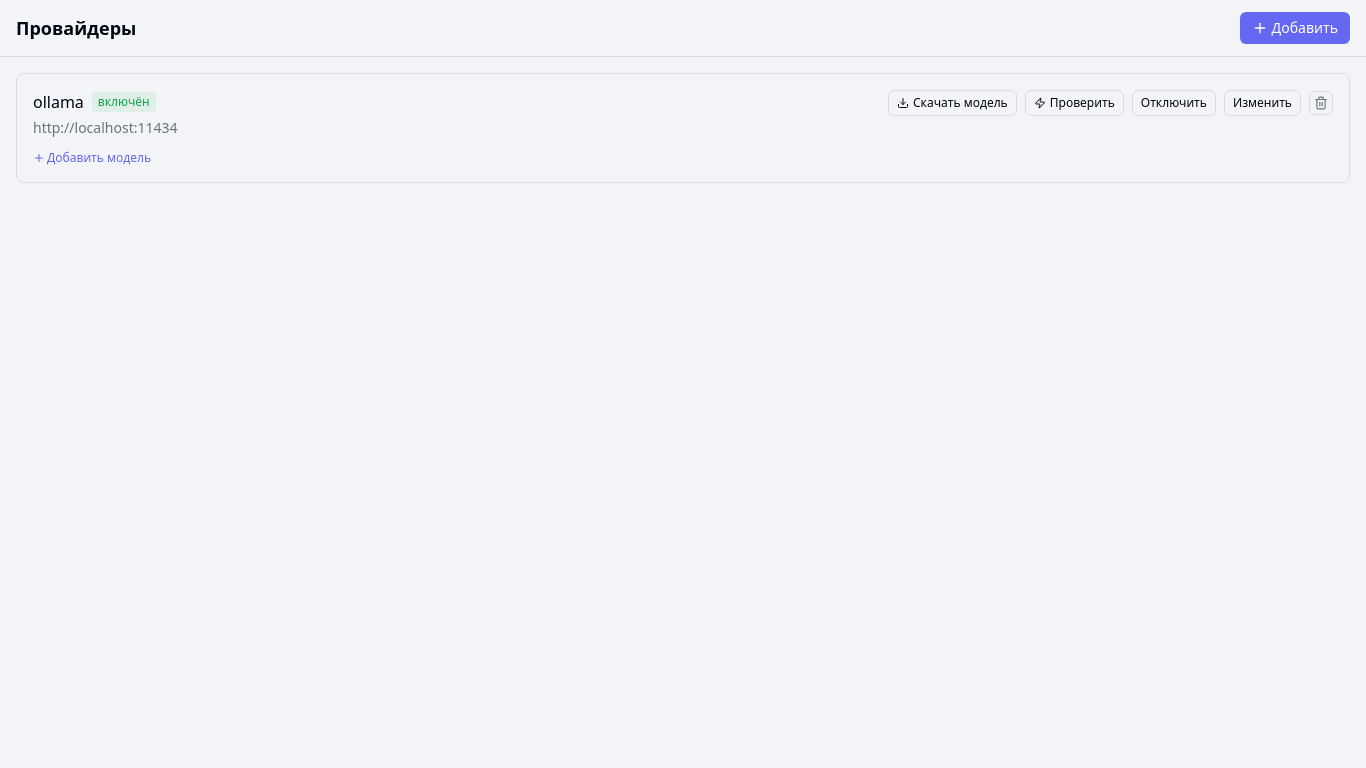
Test case: ProvidersPage: скачивание моделей (T-437, часть А) › shows backend error text as-is on download failure
Click the button "Скачать модель". click: (952, 103)
box: [888,90,1017,116]
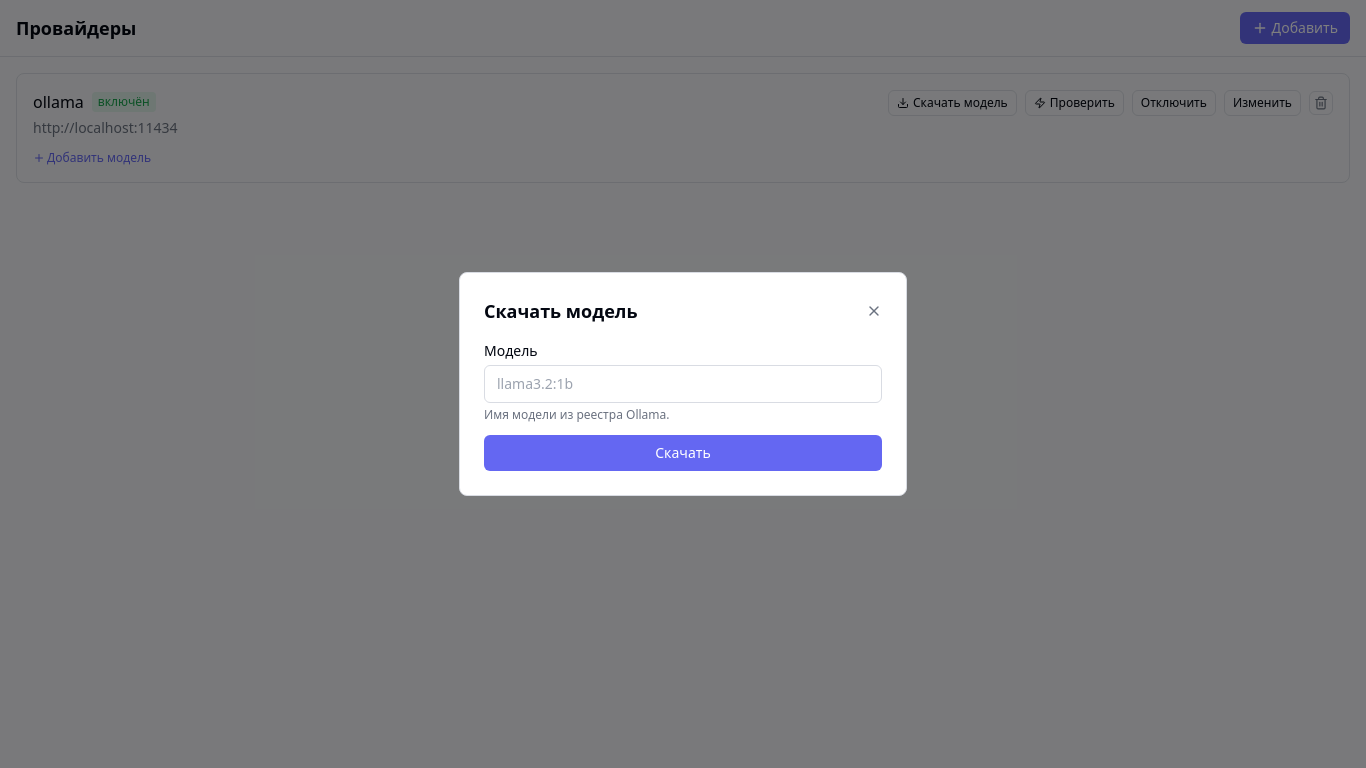
Type "nope" into the field with placeholder "llama3.2:1b". click: (683, 384)
box: [484,365,882,403]
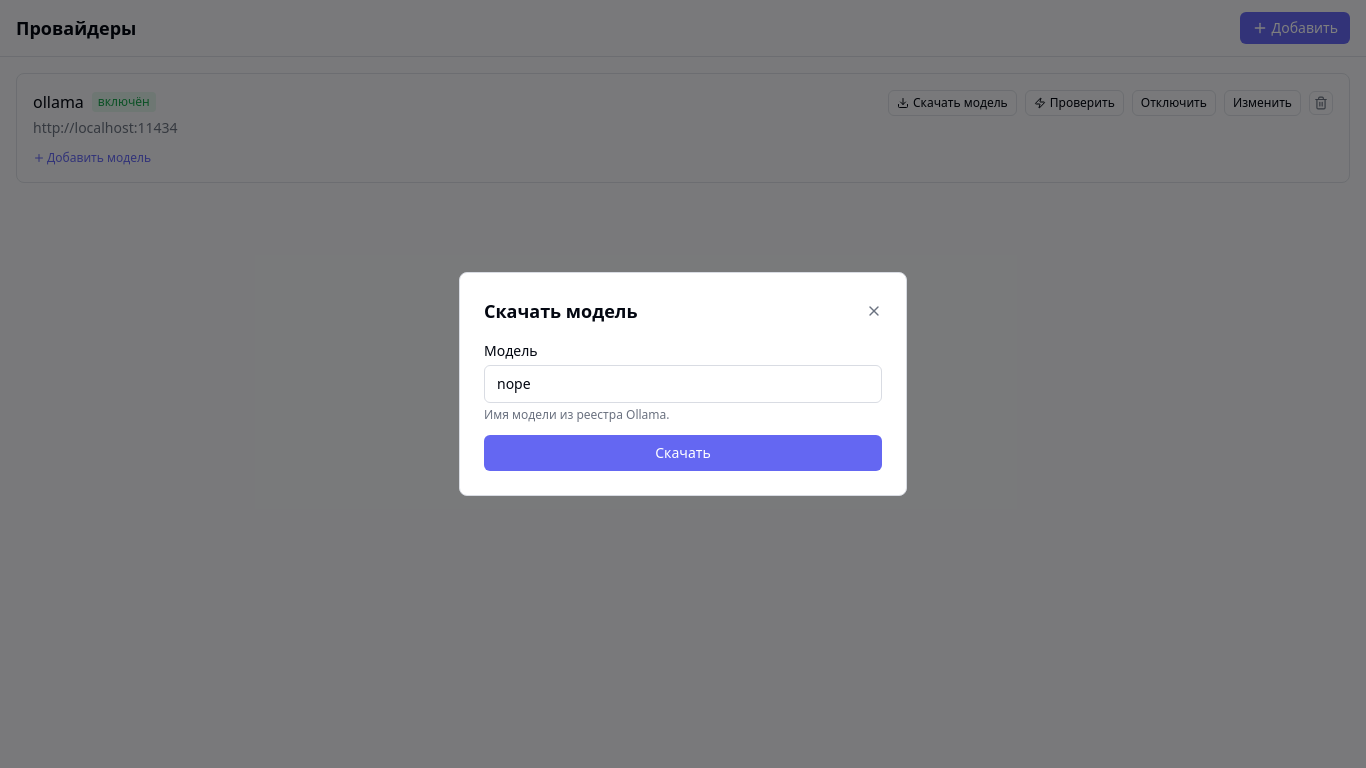
Click the button "Скачать". click: (683, 453)
box: [484,435,882,471]
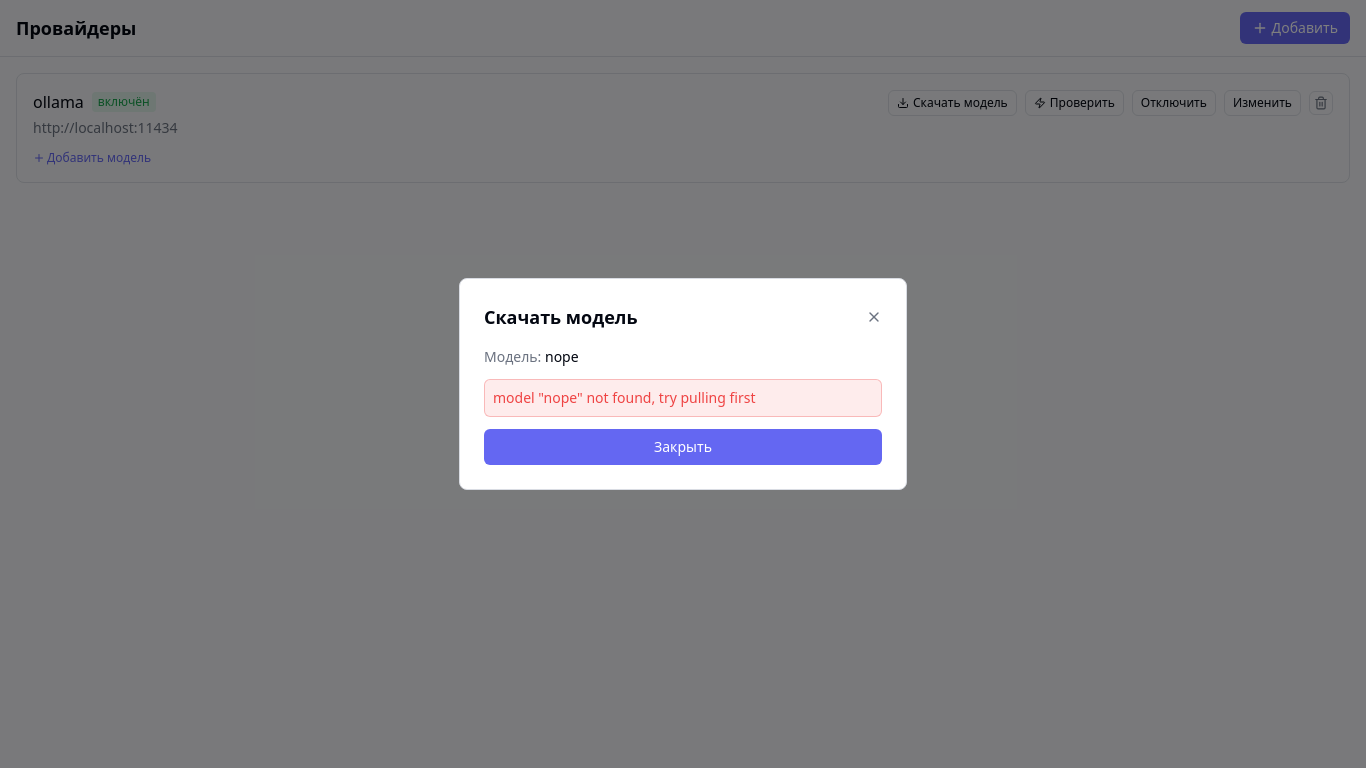
Expected: the text "model \"nope\" not found, try pulling first" is shown, [484,379,882,417]
Expected: the button "Закрыть" is shown, [484,429,882,465]
